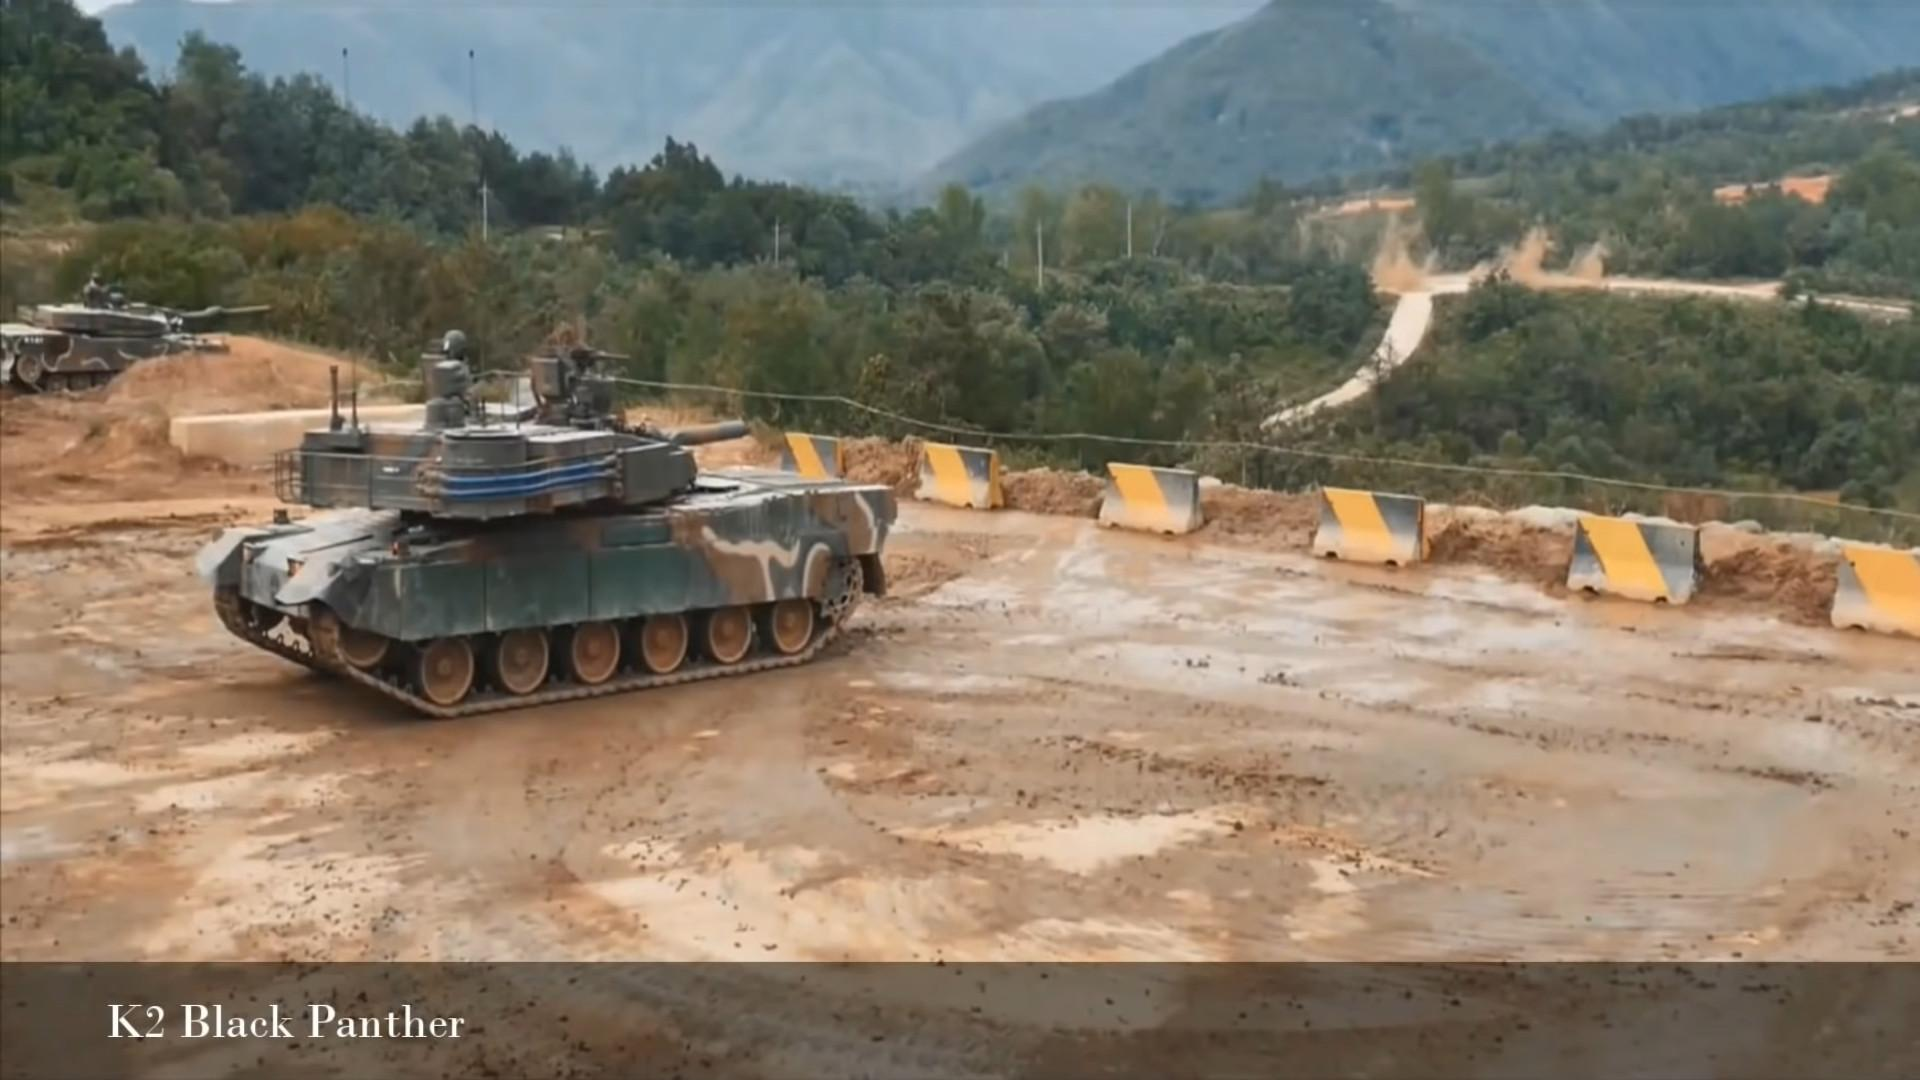tank: (194, 362, 896, 713), (6, 303, 267, 395)
